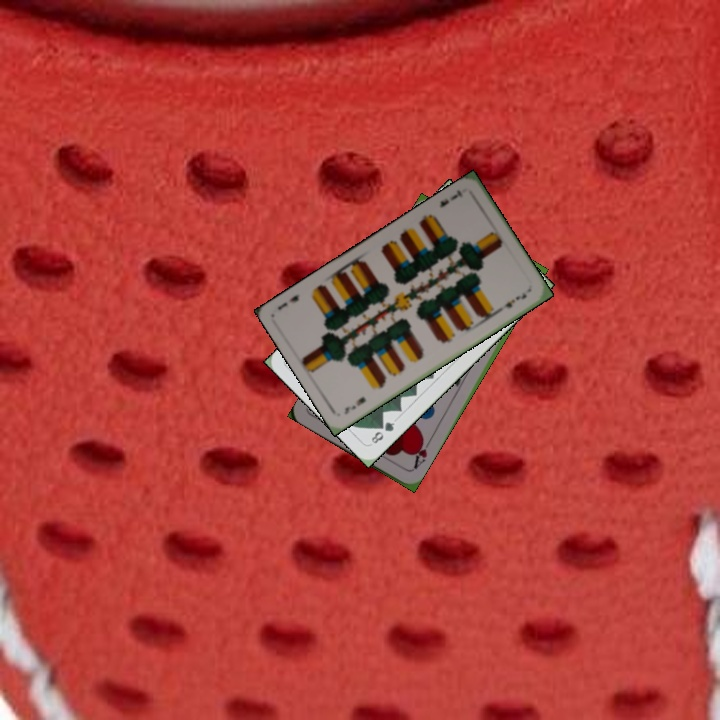E7: (435, 186, 466, 210), (340, 392, 369, 417)
G8: (367, 417, 397, 446)
HA: (408, 434, 434, 473)
